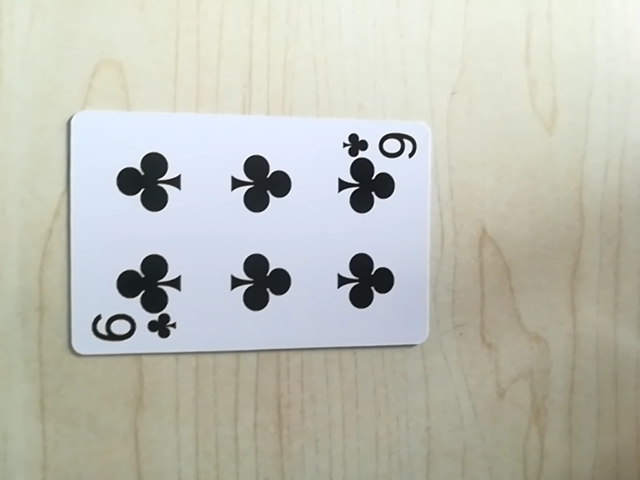mh 6: (86, 309, 182, 351), (343, 126, 419, 160)
